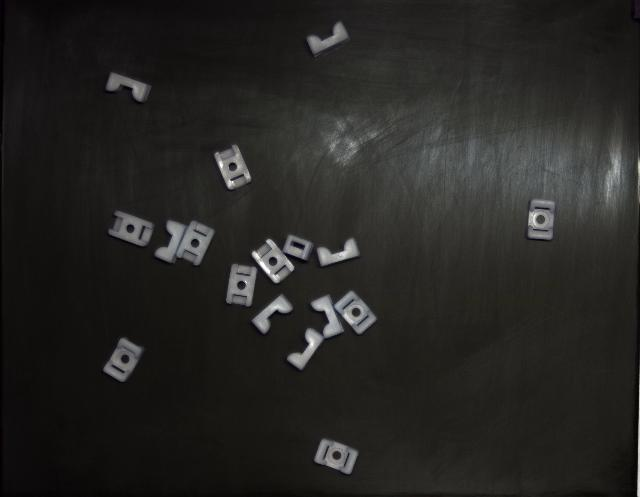first_side: (334, 291, 376, 335), (104, 338, 144, 382), (315, 439, 359, 475), (528, 200, 555, 241)
fourth_side: (282, 235, 314, 261)
second_side: (251, 239, 295, 284), (109, 211, 154, 248), (215, 145, 251, 190), (226, 264, 258, 308)
third_side: (251, 295, 292, 334), (306, 21, 350, 56), (288, 329, 324, 371), (311, 295, 344, 339), (155, 220, 186, 264), (106, 72, 151, 102), (316, 239, 360, 266)
